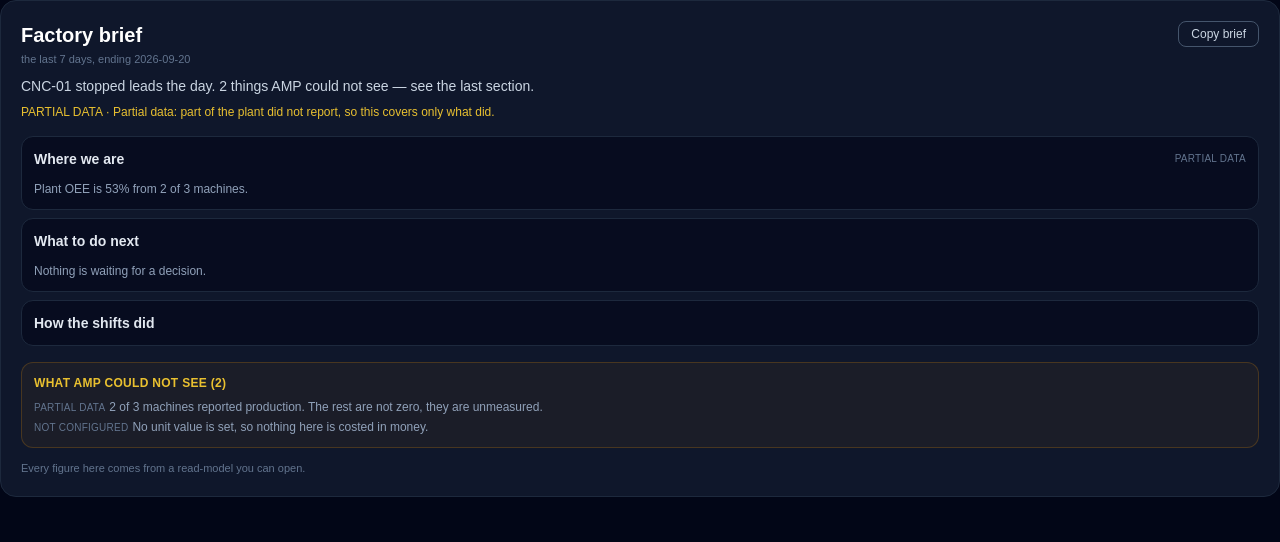
Test: DailyBriefSection › leaves the supporting sections one tap away
Check: the text "Day shift made 1,040" is not shown
Click the button "How the shifts did": (94, 322) 22,300 -> 1258,344
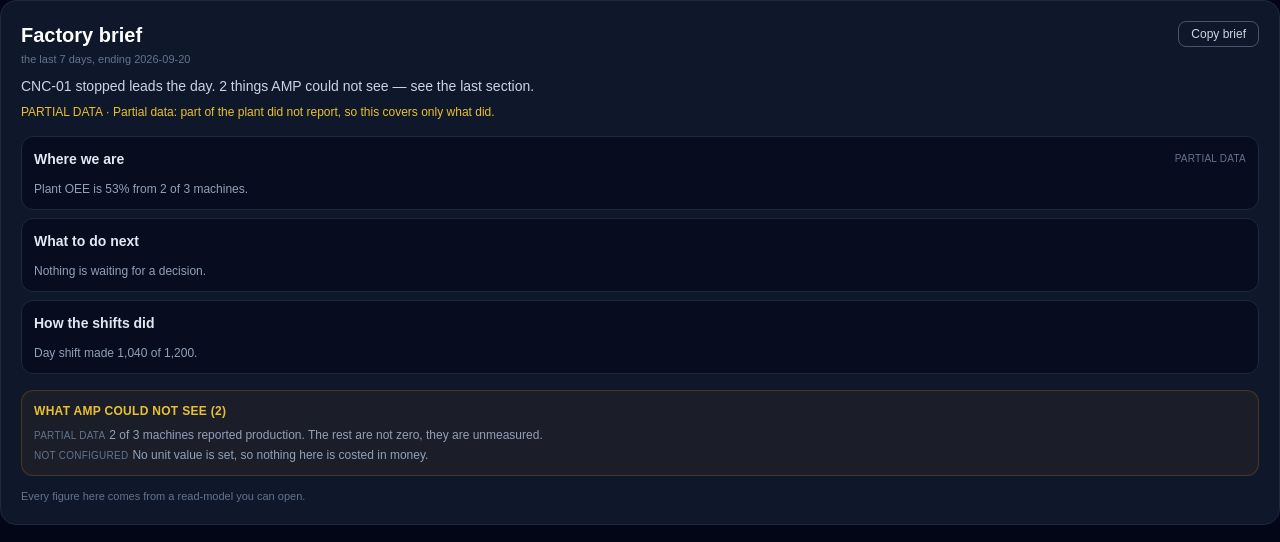
Check: the list item "Day shift made 1,040 of 1,200." is shown, box 34,346 -> 197,360
